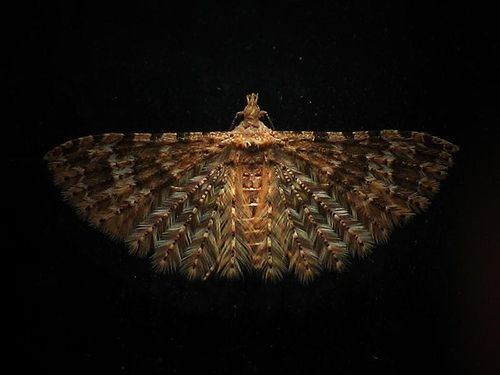Alucitidae: (40, 87, 459, 281)
moth: (38, 85, 457, 279)
